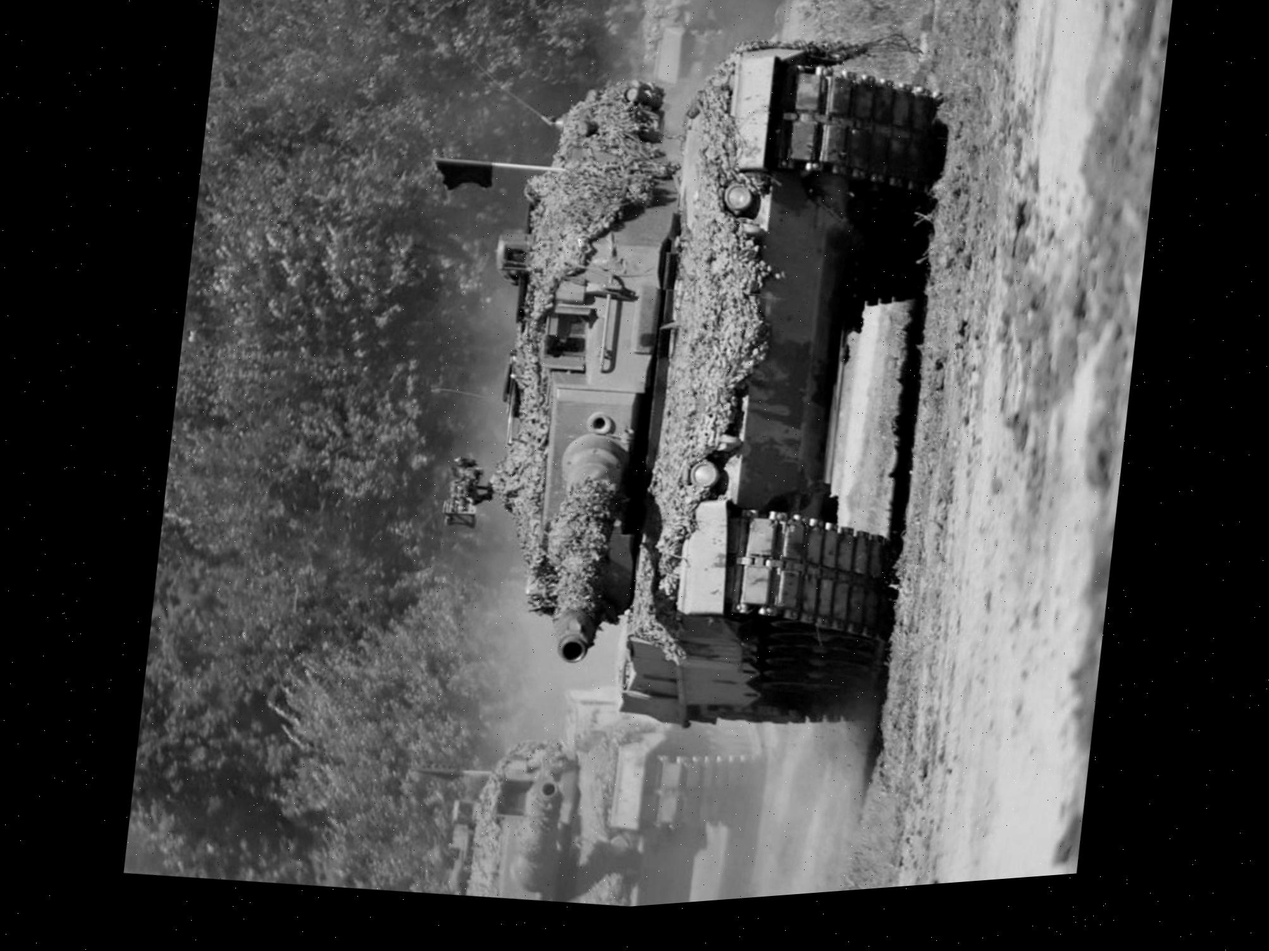tank: (403, 0, 974, 773), (434, 656, 780, 920), (514, 0, 795, 111)
